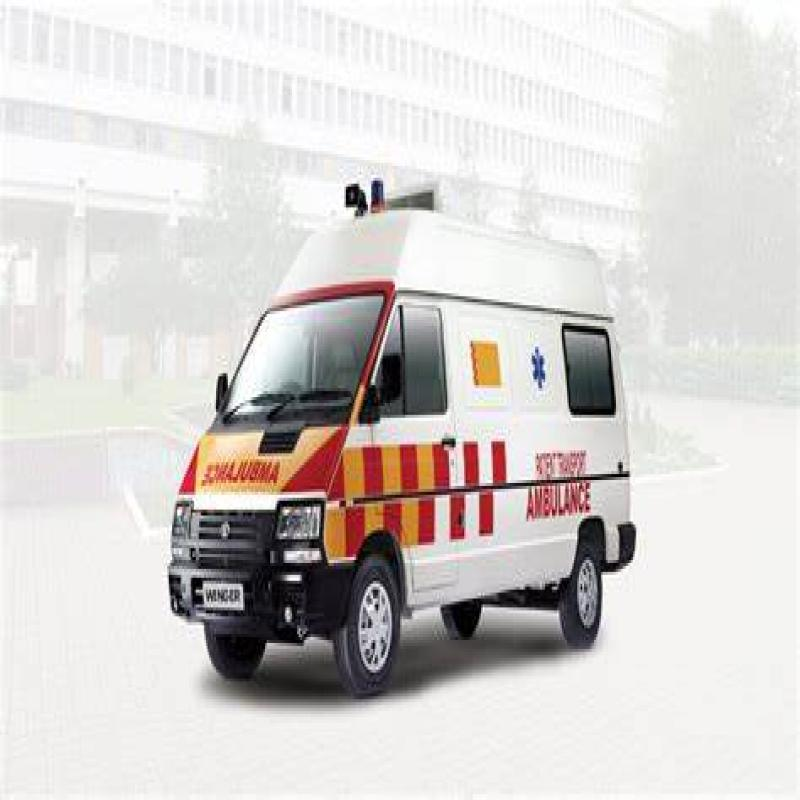AmbulanceSiren: (362, 166, 392, 221)
